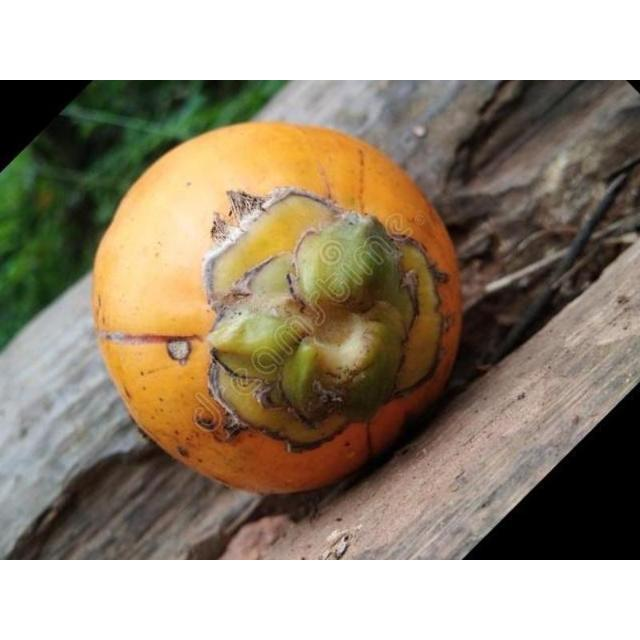good: (91, 122, 462, 497)
